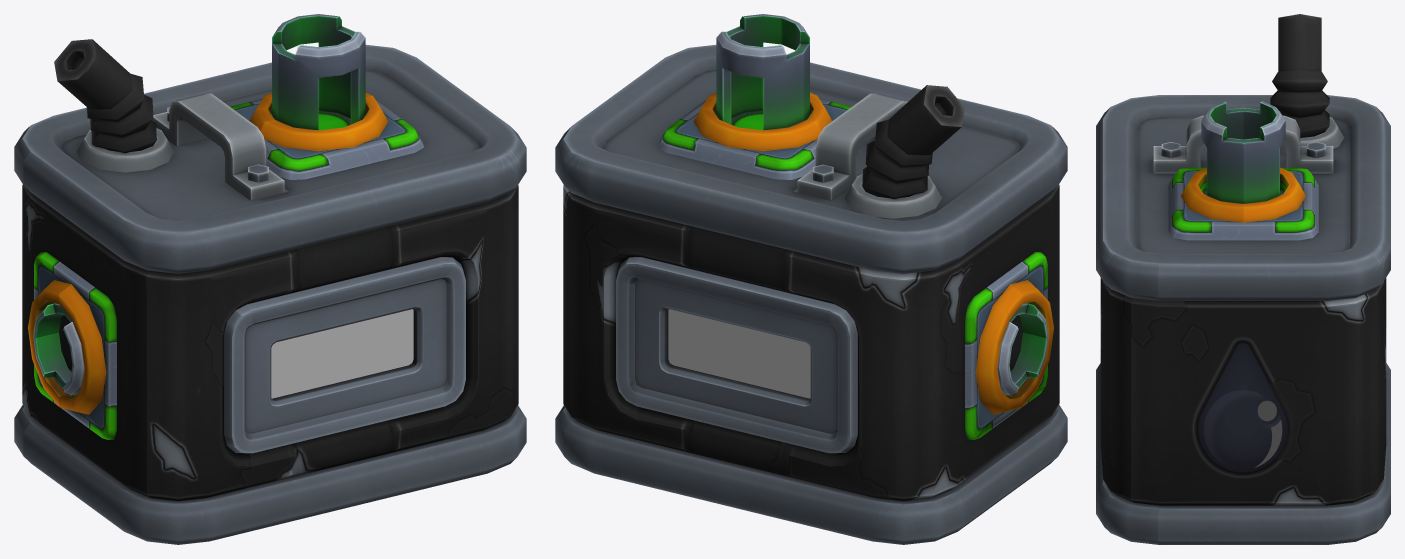
Rendered from obj_containers_gas_pose0.fbx.
3 renders of one model, left to right at view 1: azimuth 30°, elevation 25°; view 2: azimuth 150°, elevation 25°; view 3: azimuth 270°, elevation 25°, orthographic. The views are drawn at different scales.
Visible parts, largest first — view 1: obj_containers_gas_pose00; view 2: obj_containers_gas_pose00; view 3: obj_containers_gas_pose00.
Boxes of the visible parts, box(x1,y1,x2,y2) form: obj_containers_gas_pose00: box(14, 14, 526, 544); obj_containers_gas_pose00: box(555, 14, 1067, 544); obj_containers_gas_pose00: box(1096, 14, 1390, 544).
Bounding box in the file's own units: 4.31 × 4.2 × 2.94.
